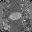people: (9, 12, 22, 20)
